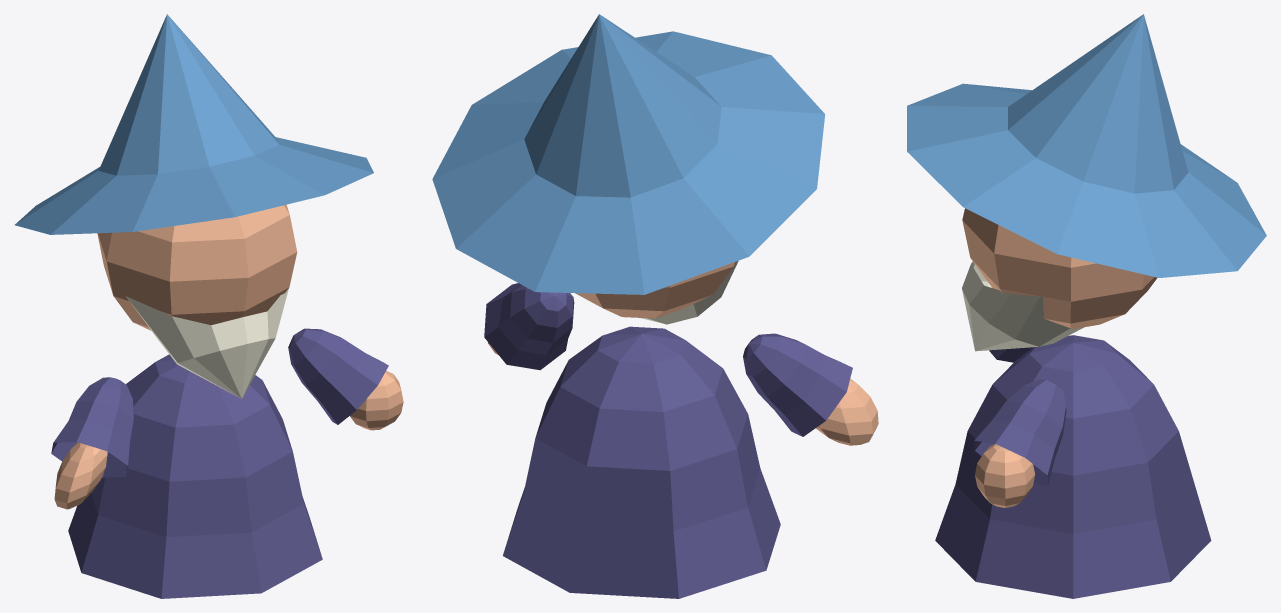
File: Wizard.fbx
The picture shows the model from 3 angles, left to right: view 1: azimuth 30°, elevation 25°; view 2: azimuth 150°, elevation 25°; view 3: azimuth 270°, elevation 25°; orthographic projection. The views are drawn at different scales.
Parts seen in each view (by area): view 1: Body, Hat, Head, Beard, Hand, Hand.001, Head.002, Head.001; view 2: Hat, Body, Hand.001, Hand, Head, Head.002, Beard; view 3: Hat, Body, Head, Hand, Beard, Head.001.
Boxes of the visible parts, x1,y1,x2,y2 form: Body: [68, 354, 322, 598]; Hat: [14, 14, 373, 234]; Head: [97, 204, 297, 330]; Beard: [126, 288, 288, 398]; Hand: [288, 328, 388, 424]; Hand.001: [51, 377, 133, 477]; Head.002: [54, 442, 107, 509]; Head.001: [350, 370, 403, 430]; Hat: [432, 14, 825, 294]; Body: [503, 326, 780, 598]; Hand.001: [743, 333, 852, 436]; Hand: [484, 283, 574, 370]; Head: [575, 262, 734, 318]; Head.002: [816, 379, 878, 445]; Beard: [640, 260, 738, 324]; Hat: [907, 14, 1266, 277]; Body: [935, 335, 1211, 598]; Head: [962, 208, 1157, 329]; Hand: [974, 379, 1066, 485]; Beard: [962, 261, 1083, 351]; Head.001: [975, 444, 1034, 507].
Bounding box in the file's own units: 104 × 144 × 88.6.
